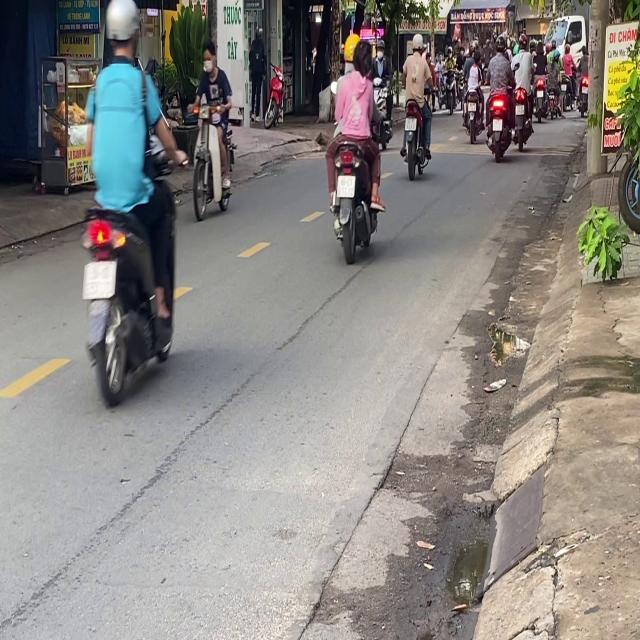helmet: (104, 0, 141, 63), (342, 32, 360, 68), (410, 32, 422, 53)
licenseplate: (74, 0, 184, 404), (322, 29, 386, 261), (188, 39, 236, 220), (399, 31, 433, 178)
motorcyclist: (352, 38, 374, 77), (201, 40, 217, 72)
nohelmet: (82, 261, 116, 299), (336, 175, 354, 197), (404, 117, 416, 130)
